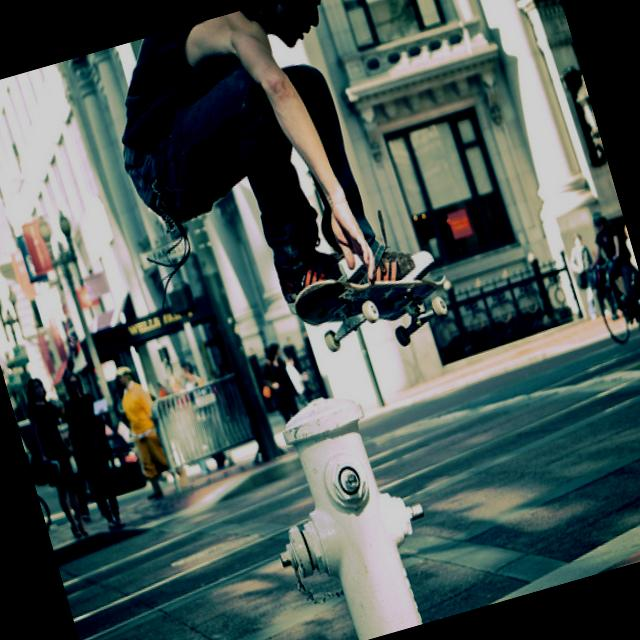Vehicle: (101, 428, 148, 494)
